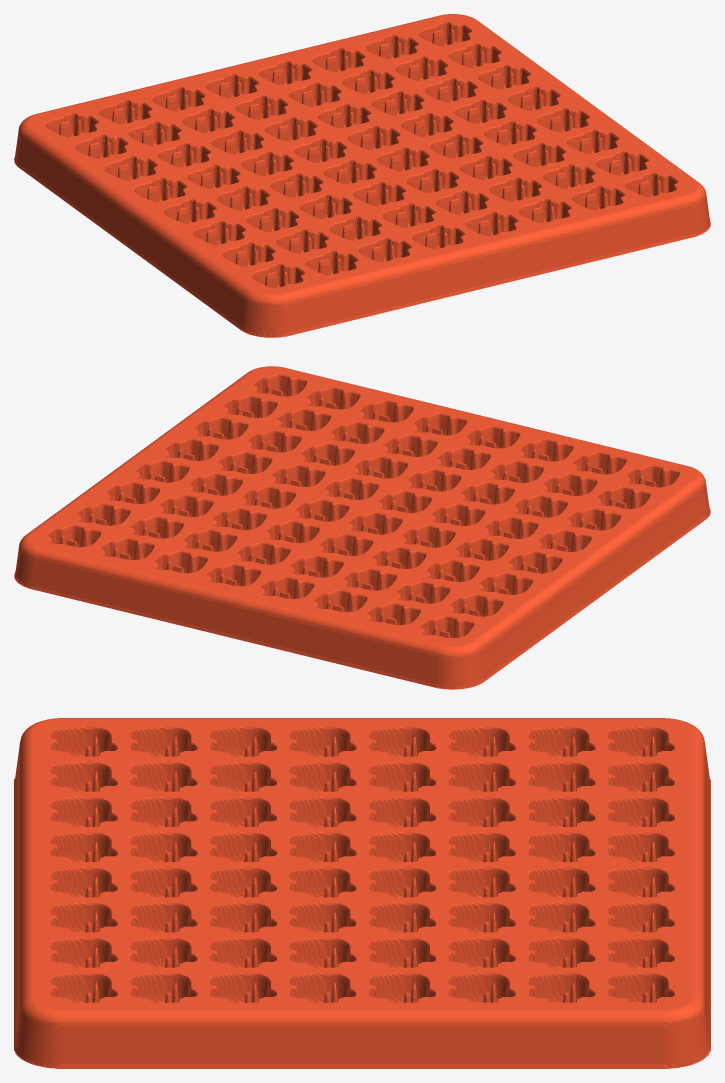
File: mold.glb
3 renders of one model, top to bottom at view 1: azimuth 30°, elevation 25°; view 2: azimuth 150°, elevation 25°; view 3: azimuth 270°, elevation 25°, orthographic. The views are drawn at different scales.
Visible parts, largest first — view 1: geometry_0; view 2: geometry_0; view 3: geometry_0.
Part boxes in pixels (bbox=[...]): geometry_0: bbox=[14, 14, 710, 337]; geometry_0: bbox=[14, 366, 710, 689]; geometry_0: bbox=[14, 718, 710, 1068].
Size of the model in its own units: 0.1355 by 0.0105 by 0.1301.
